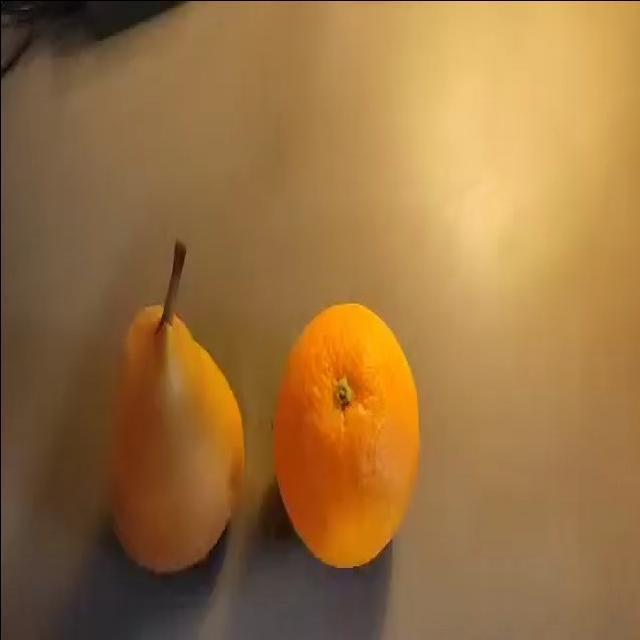Orange: (272, 301, 421, 569)
